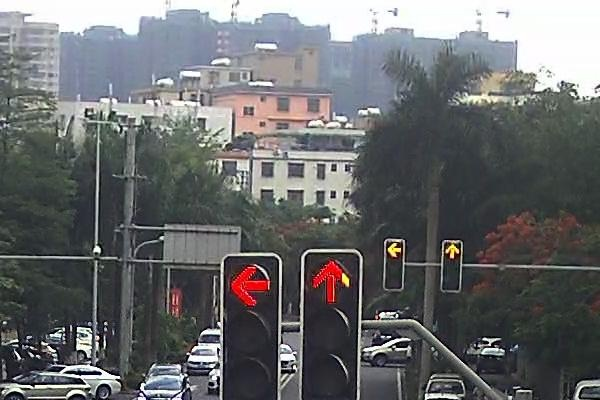redleft: (220, 255, 281, 307), (384, 238, 405, 261)
redstraight: (302, 251, 361, 306), (440, 240, 465, 260)
